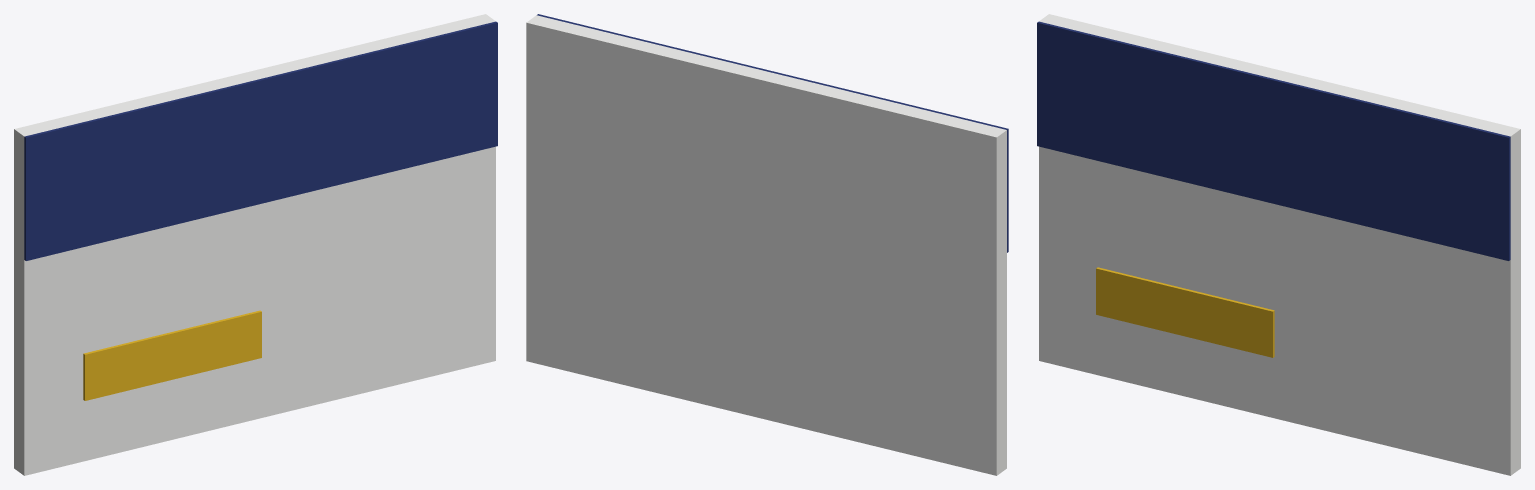
The model's file is votecard.glb.
3 views of the same model, side by side, from view 1: azimuth 30°, elevation 25°; view 2: azimuth 150°, elevation 25°; view 3: azimuth 330°, elevation 25° (orthographic).
Visible parts, largest first — view 1: votecard; view 2: votecard; view 3: votecard.
Part boxes in pixels (x1,y1,x2,y2): votecard: (14, 14, 497, 475); votecard: (526, 14, 1008, 475); votecard: (1037, 14, 1520, 475).
Size of the model in its own units: 0.16 by 0.11 by 0.007.
Materials: 1 (1 with a texture image).
